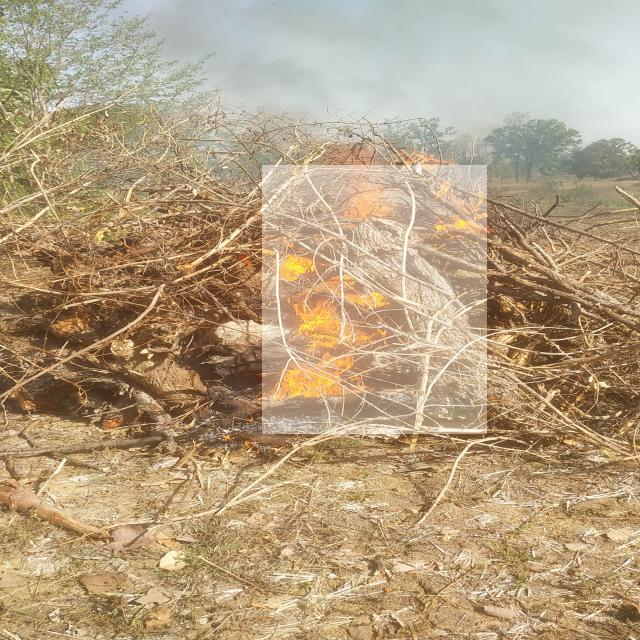Fire: (262, 165, 487, 434)
